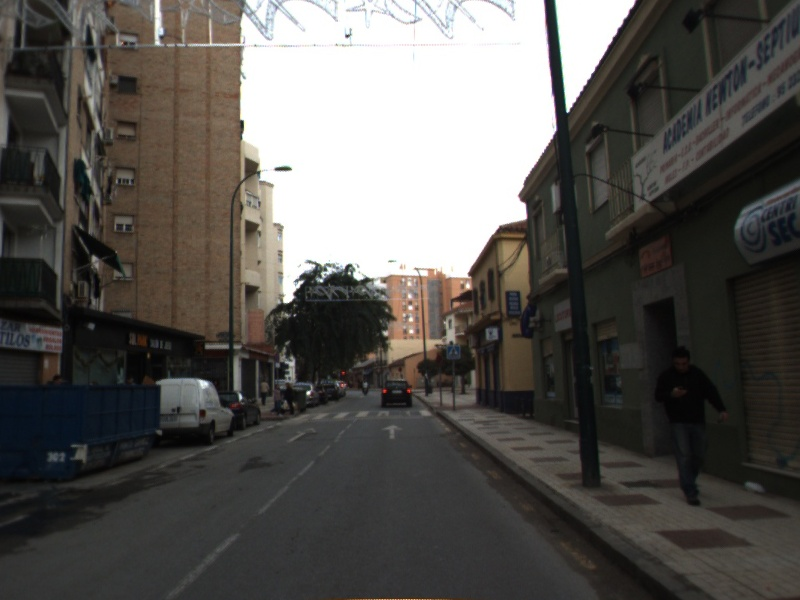STRAIGHT: (284, 425, 320, 445), (379, 423, 405, 441)
